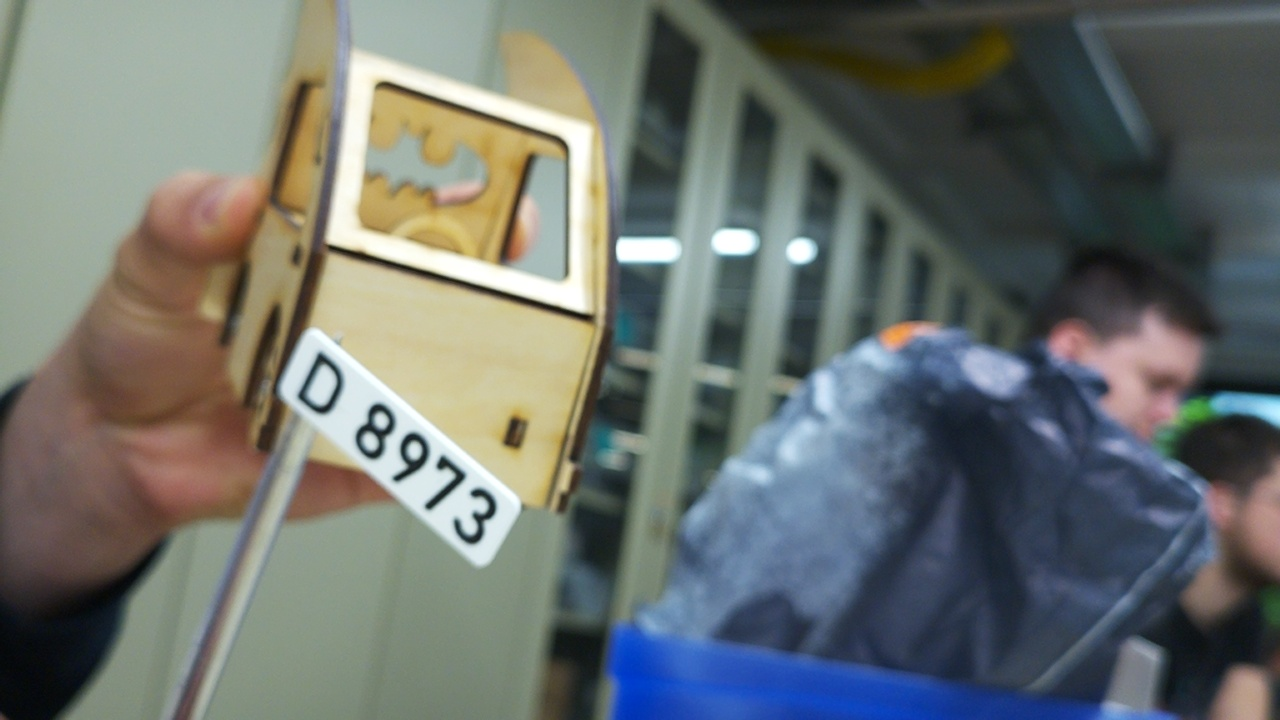license_plate: (273, 324, 523, 573)
